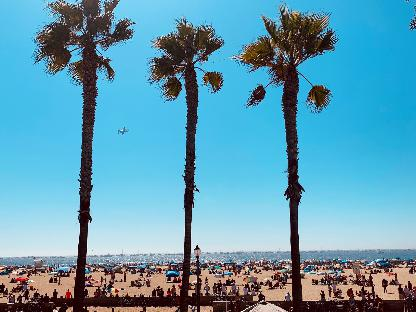A10: (118, 127, 128, 135)
